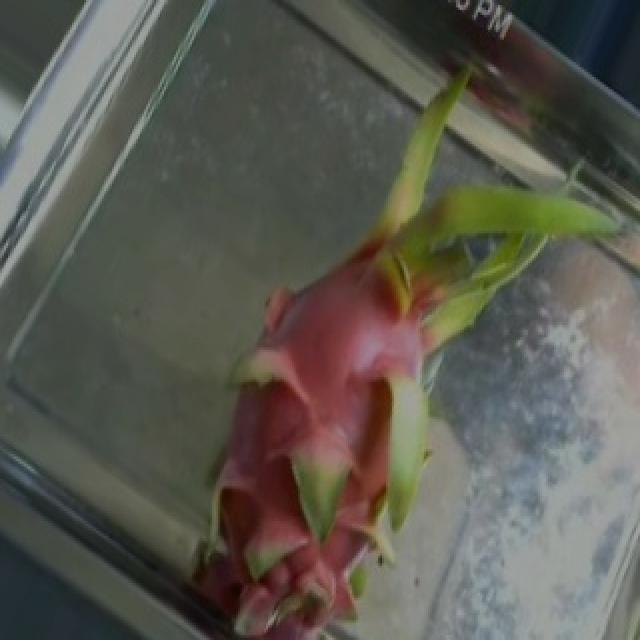fruit: (224, 5, 640, 424), (78, 238, 426, 640)
